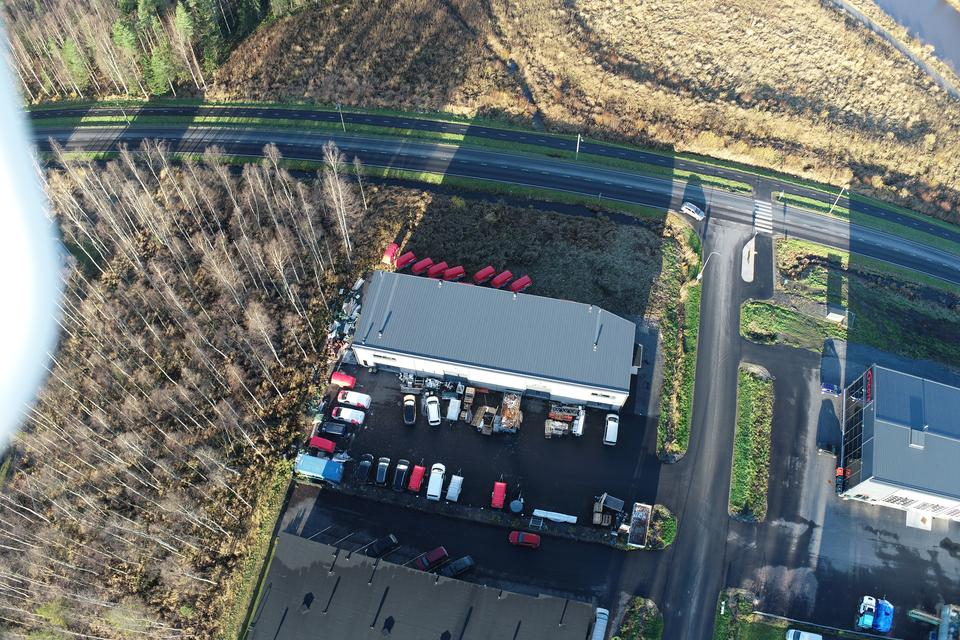intersection: (669, 138, 792, 315)
